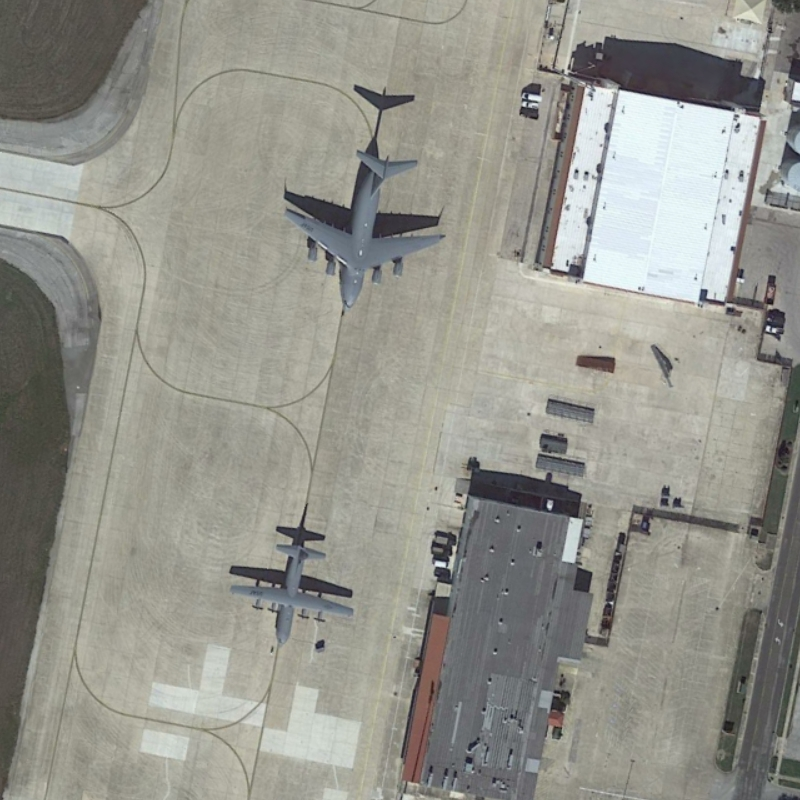A2: (227, 529, 361, 657)
A3: (280, 142, 450, 314)
